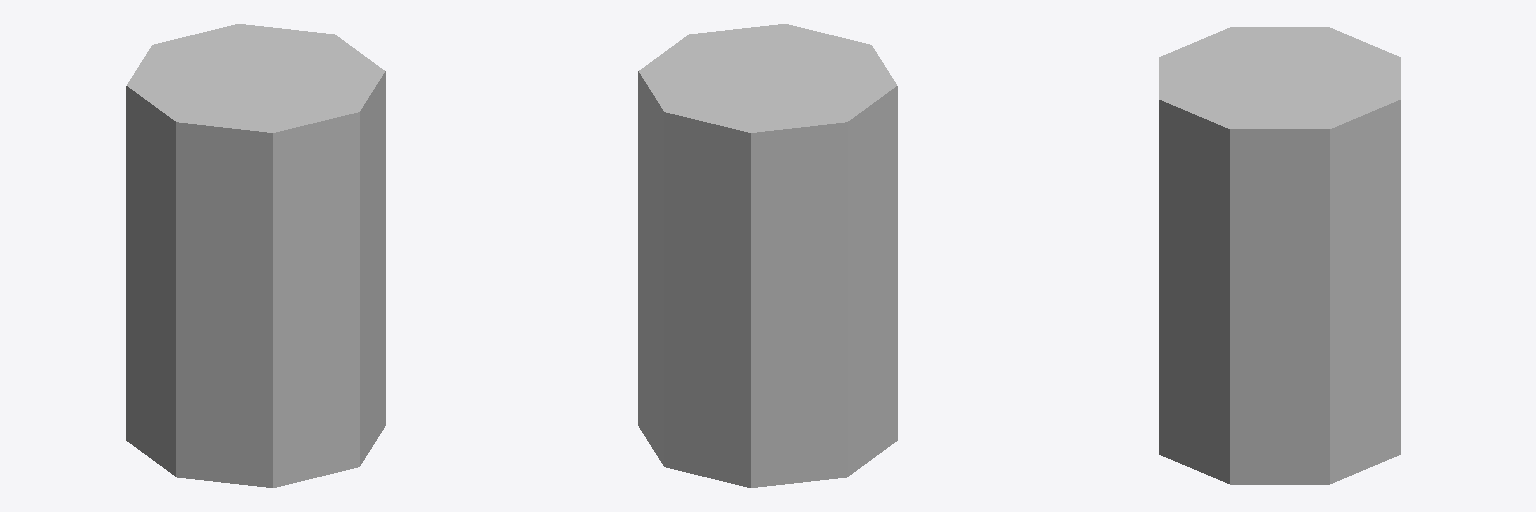
The model's file is pipe_connect.obj.
3 views of the same model, side by side, from view 1: azimuth 30°, elevation 25°; view 2: azimuth 150°, elevation 25°; view 3: azimuth 270°, elevation 25° (orthographic).
Visible parts, largest first — view 1: pipe_pipemp; view 2: pipe_pipemp; view 3: pipe_pipemp.
Boxes of the visible parts, x1,y1,x2,y2 form: pipe_pipemp: [126, 24, 385, 487]; pipe_pipemp: [638, 24, 897, 487]; pipe_pipemp: [1159, 27, 1400, 484].
Bounding box in the file's own units: 0.231 × 0.375 × 0.231.